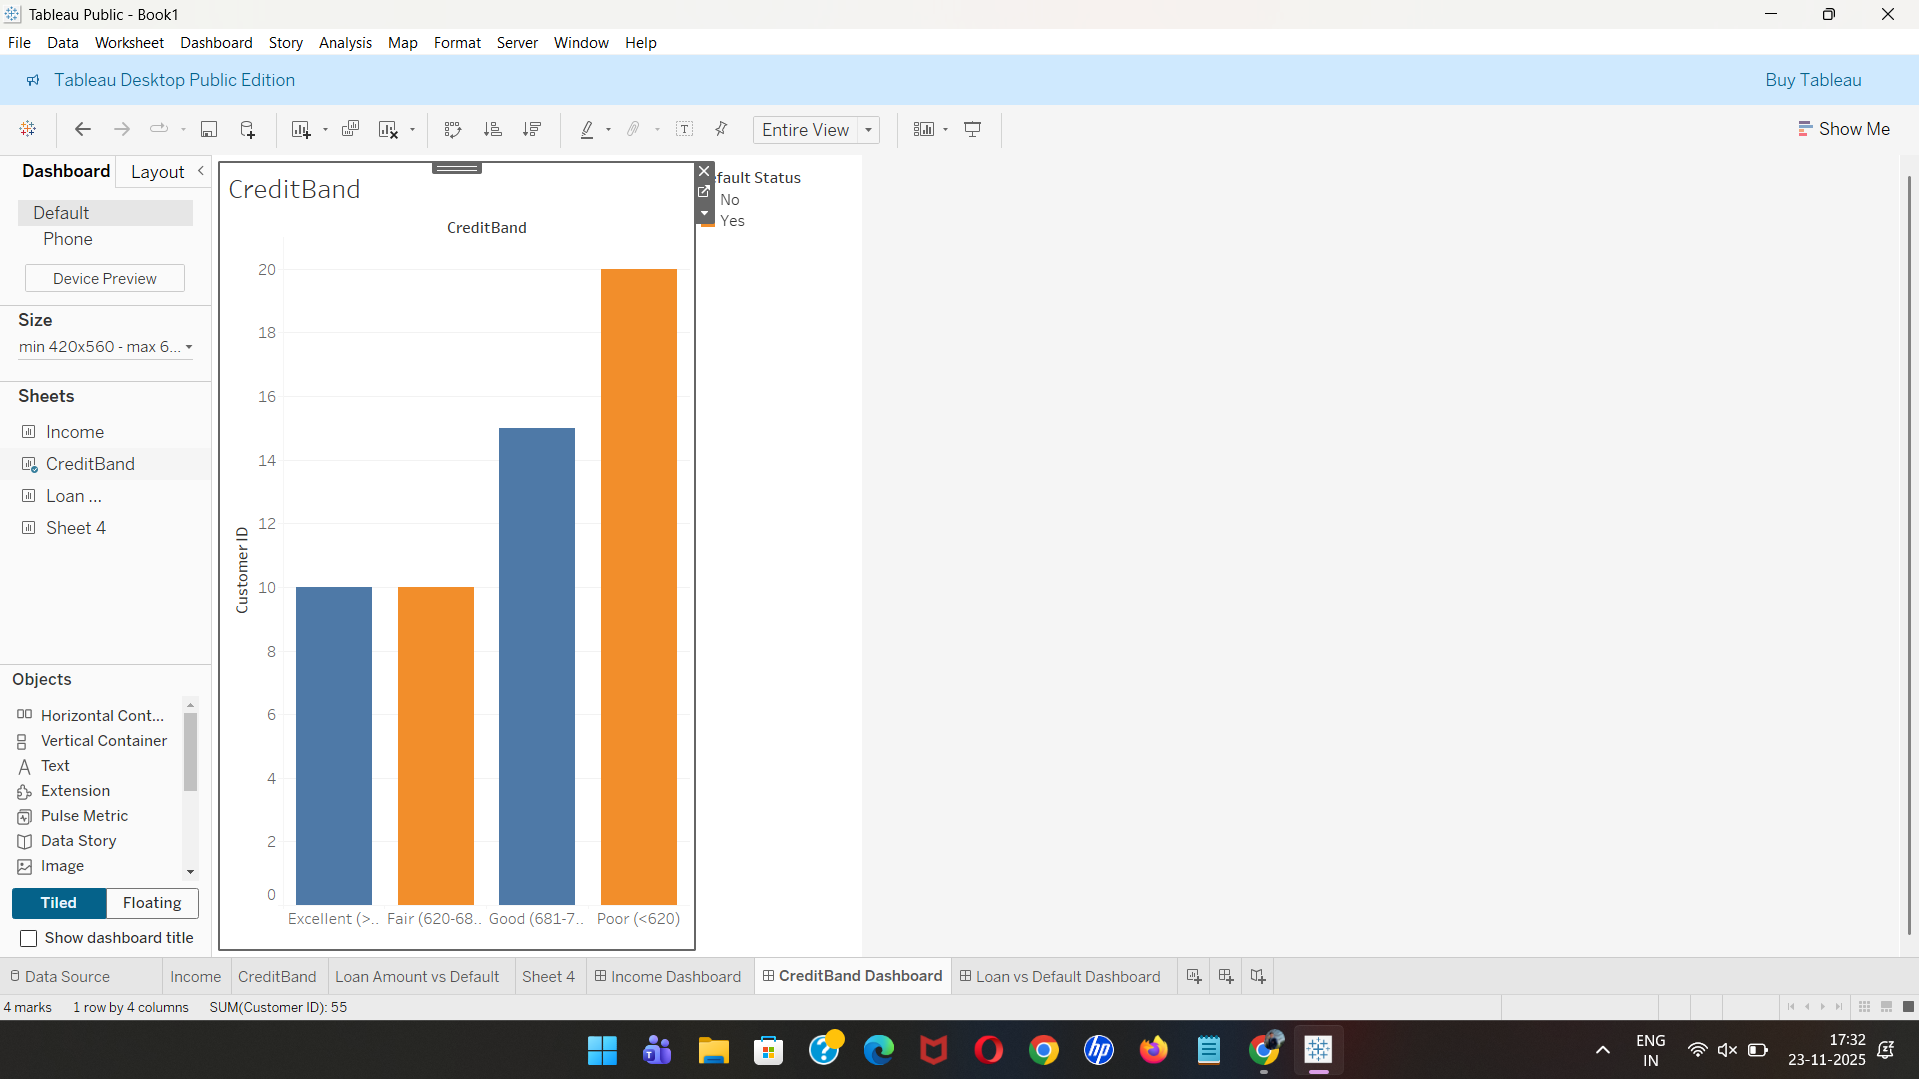

What the dashboard file says about the page in this screenshot:
{"tool":"tableau","page":{"name":"CreditBand Dashboard","canvas":[650,860],"ordinal":0},"visuals":[{"type":"worksheet","title":"CreditBand","mark":"Automatic","rows":["CustomerID"],"cols":["Calculation_595319585119485953"],"box":[8,8.6,474,842.8]},{"type":"legend","title":"CreditBand","param":"[federated.1nku3n11mbzdj61bmsmut0y6azl3].[none:DefaultStatus:nk]","box":[482,8.6,160,77.2]}]}

Visuals, with their boxes on the page's 650x860 design canvas (x1, y1, x2, y2). These are canvas units, not pixel positions in the 1919x1079 screenshot, which may show the page scaled, cropped or inside an application window:
"CreditBand" worksheet: bbox(8, 9, 482, 851)
"CreditBand" legend: bbox(482, 9, 642, 86)
